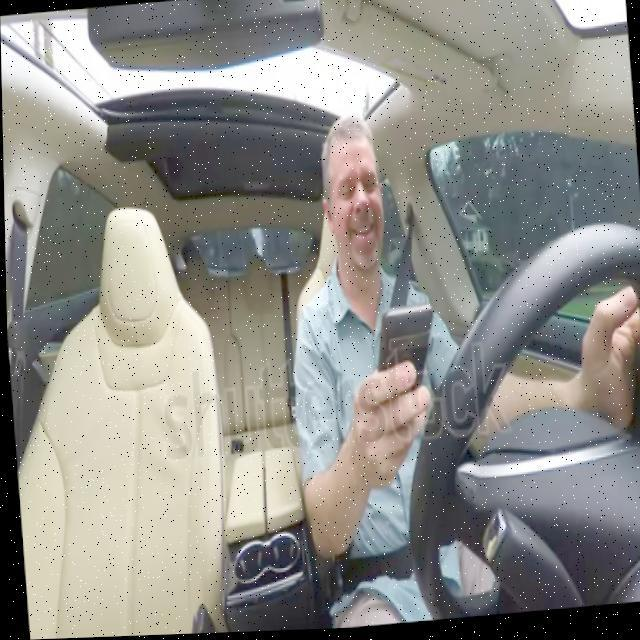PhoneCall: (367, 302, 440, 425)
